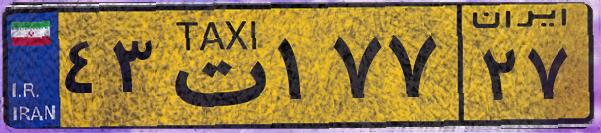1: (270, 28, 330, 110)
2: (475, 38, 525, 113)
3: (110, 28, 158, 98)
4: (57, 26, 110, 100)
7: (385, 28, 445, 110), (330, 28, 385, 110), (525, 38, 570, 115)
ت: (158, 12, 270, 120)
